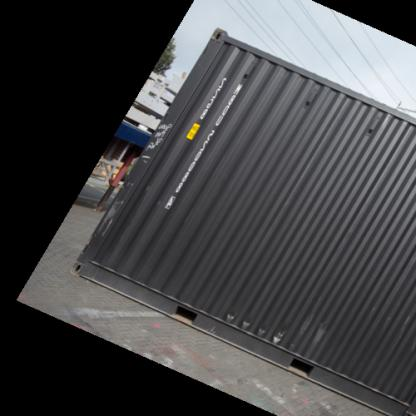Damage: (220, 309, 291, 350), (95, 177, 138, 237), (139, 119, 173, 168)
